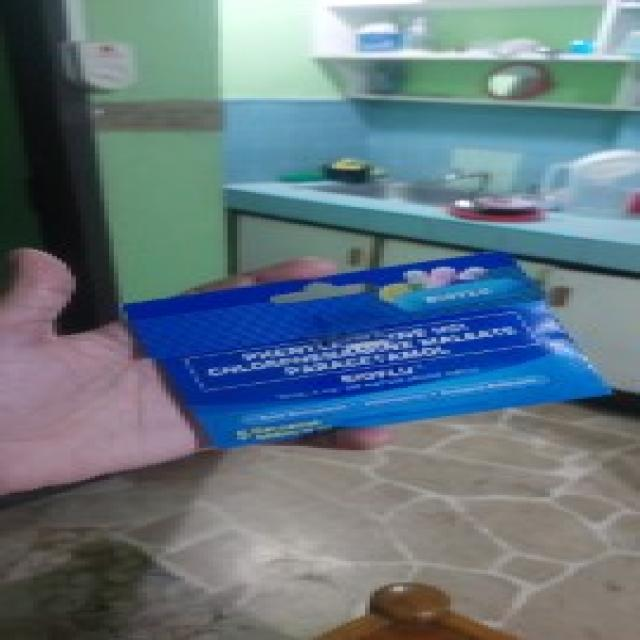Cacat: (114, 250, 612, 453)
